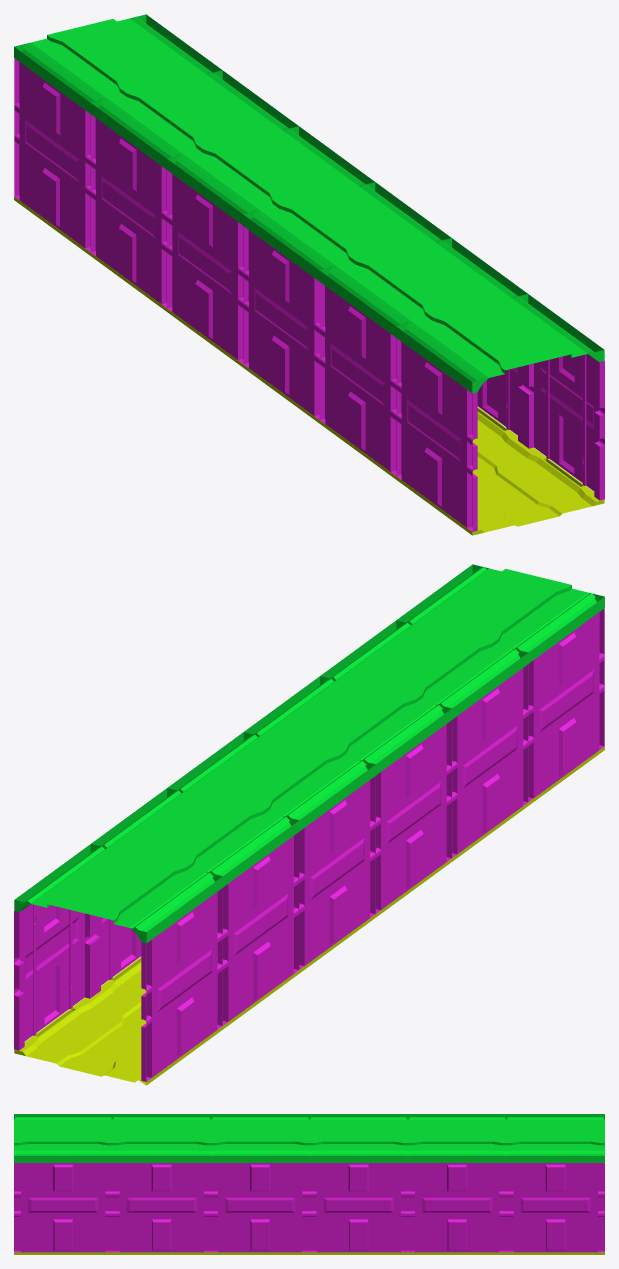
Rendered from proba.fbx.
The picture shows the model from 3 angles, top to bottom: view 1: azimuth 30°, elevation 25°; view 2: azimuth 150°, elevation 25°; view 3: azimuth 270°, elevation 25°; orthographic projection. The views are drawn at different scales.
Visible parts, largest first — view 1: Plane.002, Plane.021, Plane.007, Plane.017, Plane.014, Plane.020, Plane.005, Plane.012, Plane.015, Plane.018, Plane.008, Plane.011 (+4 smaller); view 2: Plane.002, Plane.005, Plane.007, Plane.021, Plane.017, Plane.008, Plane.018, Plane.012, Plane.015, Plane.014, Plane.020, Plane.011 (+4 smaller); view 3: Plane.006, Plane.013, Plane.019, Plane.001, Plane.010, Plane.016, Plane.005, Plane.008, Plane.012, Plane.015, Plane.018, Plane.021 (+6 smaller).
Part boxes in pixels (box(x1,y1,x2,y2)): Plane.002: box(14, 58, 95, 251); Plane.021: box(396, 294, 604, 393); Plane.007: box(90, 117, 172, 307); Plane.017: box(319, 283, 401, 475); Plane.014: box(243, 226, 324, 419); Plane.020: box(396, 338, 477, 531); Plane.005: box(14, 14, 222, 113); Plane.012: box(166, 126, 374, 225); Plane.015: box(243, 182, 451, 281); Plane.018: box(319, 238, 527, 337); Plane.008: box(90, 70, 298, 169); Plane.011: box(167, 170, 248, 363); Plane.002: box(141, 888, 222, 1081); Plane.005: box(14, 844, 222, 943); Plane.007: box(217, 832, 299, 1025); Plane.021: box(396, 564, 604, 663); Plane.017: box(446, 664, 528, 857); Plane.008: box(90, 788, 299, 887); Plane.018: box(320, 620, 528, 719); Plane.012: box(167, 732, 375, 831); Plane.015: box(243, 676, 452, 775); Plane.014: box(370, 720, 451, 913); Plane.020: box(523, 608, 604, 801); Plane.011: box(294, 776, 375, 969); Plane.006: box(408, 1163, 506, 1252); Plane.013: box(211, 1163, 309, 1252); Plane.019: box(14, 1163, 112, 1252); Plane.001: box(506, 1163, 604, 1252); Plane.010: box(309, 1163, 407, 1252); Plane.016: box(112, 1163, 210, 1252); Plane.005: box(506, 1114, 604, 1162); Plane.008: box(408, 1114, 506, 1162); Plane.012: box(309, 1114, 407, 1162); Plane.015: box(211, 1114, 309, 1162); Plane.018: box(112, 1114, 210, 1162); Plane.021: box(14, 1114, 112, 1162).
Size of the model in its own units: 315 by 345 by 1800.
